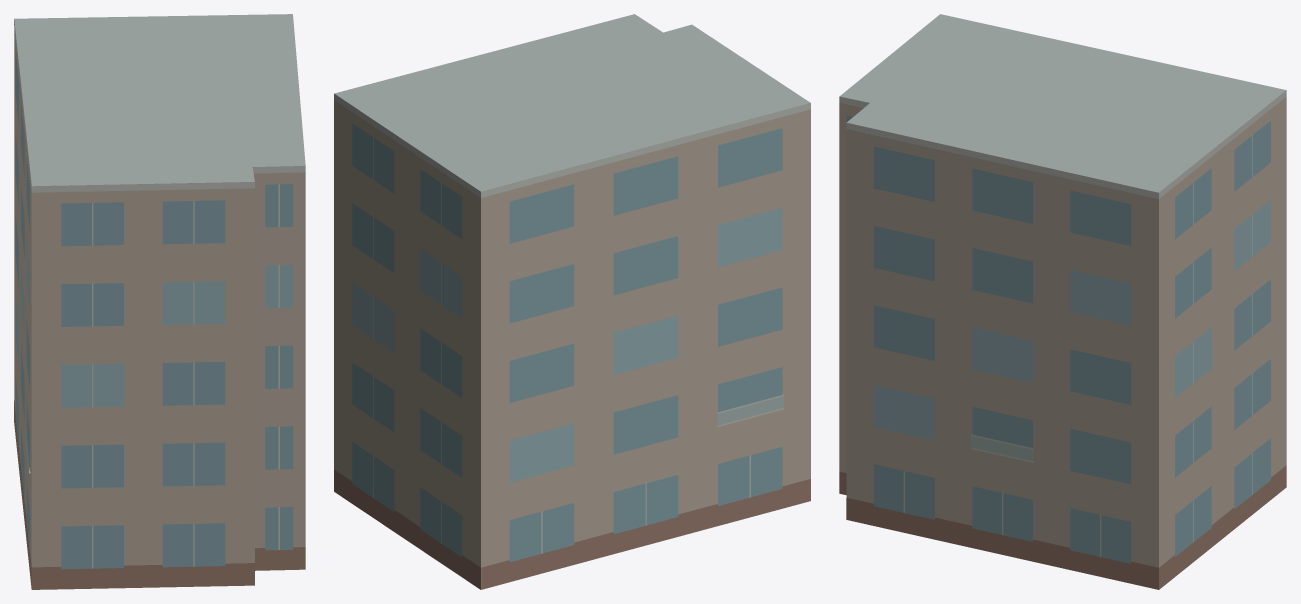
Rendered from survey-upis-32659894.glb.
3 views of the same model, side by side, from view 1: azimuth 30°, elevation 25°; view 2: azimuth 150°, elevation 25°; view 3: azimuth 270°, elevation 25° (orthographic).
Visible parts, largest first — view 1: survey-upis-32659894.tmp; view 2: survey-upis-32659894.tmp; view 3: survey-upis-32659894.tmp.
Boxes of the visible parts, x1,y1,x2,y2 form: survey-upis-32659894.tmp: [14, 14, 305, 589]; survey-upis-32659894.tmp: [334, 14, 810, 589]; survey-upis-32659894.tmp: [839, 14, 1286, 589].
Bounding box in the file's own units: 14.73 × 15.25 × 15.57.
